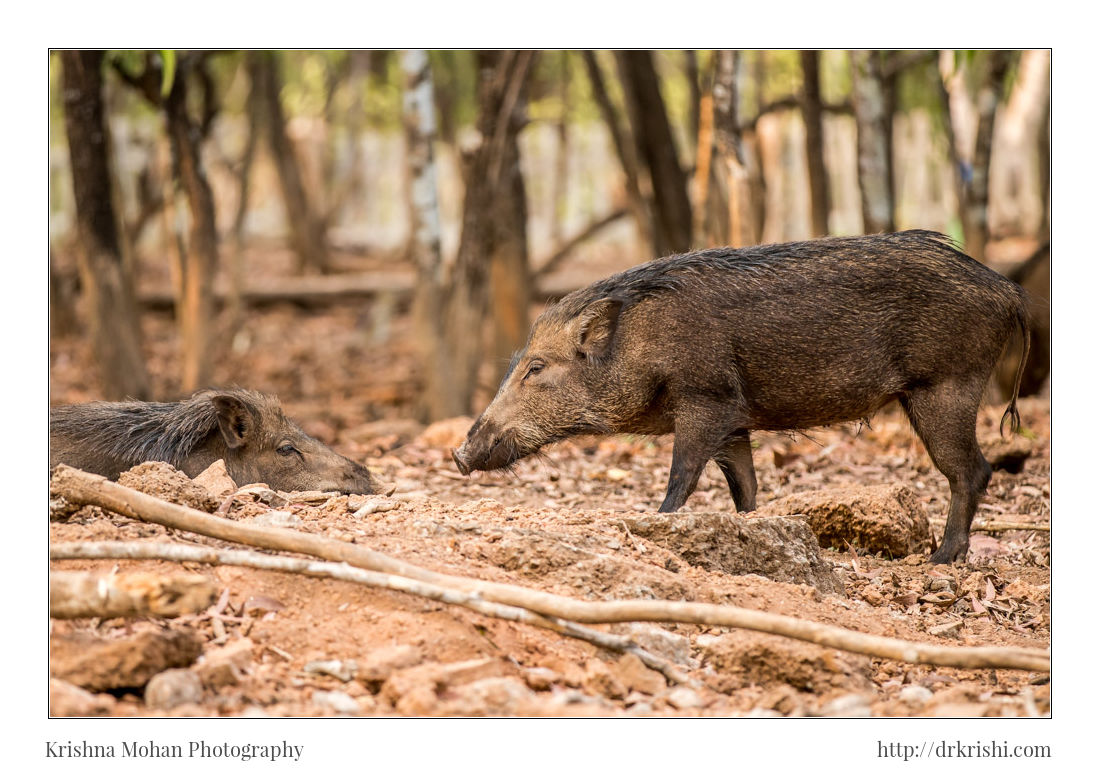wild boar: (436, 224, 1048, 568), (34, 380, 397, 526)
